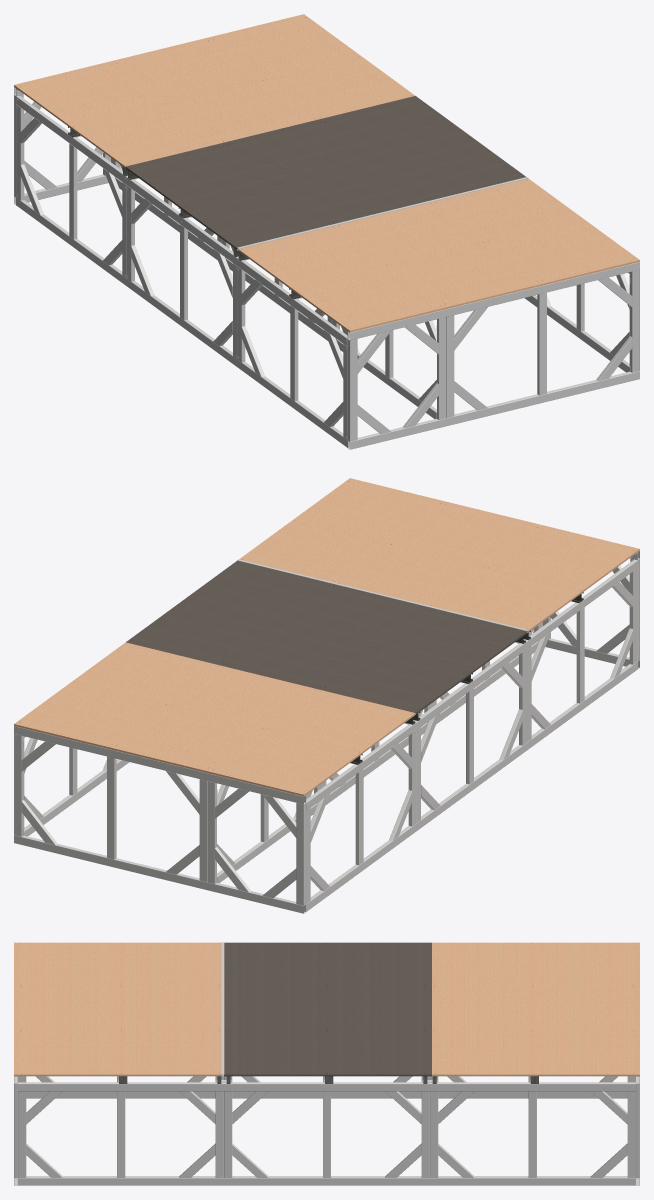
Rendered from ESCENARIO_6x3.glb.
3 renders of one model, top to bottom at view 1: azimuth 30°, elevation 25°; view 2: azimuth 150°, elevation 25°; view 3: azimuth 270°, elevation 25°, orthographic. The views are drawn at different scales.
Parts seen in each view (by area): view 1: ESCENARIO 6 x 3.171, ESCENARIO 6 x 3.162, ESCENARIO 6 x 3.183; view 2: ESCENARIO 6 x 3.171, ESCENARIO 6 x 3.162, ESCENARIO 6 x 3.183; view 3: ESCENARIO 6 x 3.171, ESCENARIO 6 x 3.162, ESCENARIO 6 x 3.183.
Part boxes in pixels (left/top/right/bottom): ESCENARIO 6 x 3.171: left=14, top=14, right=639, bottom=332; ESCENARIO 6 x 3.162: left=14, top=87, right=639, bottom=449; ESCENARIO 6 x 3.183: left=68, top=126, right=528, bottom=299; ESCENARIO 6 x 3.171: left=14, top=478, right=639, bottom=796; ESCENARIO 6 x 3.162: left=14, top=551, right=639, bottom=913; ESCENARIO 6 x 3.183: left=237, top=559, right=583, bottom=764; ESCENARIO 6 x 3.171: left=14, top=942, right=639, bottom=1076; ESCENARIO 6 x 3.162: left=14, top=1076, right=639, bottom=1185; ESCENARIO 6 x 3.183: left=119, top=942, right=538, bottom=1083.
Size of the model in its own units: 3 by 1.18 by 6.02.
Materials: 4 (3 with a texture image).
